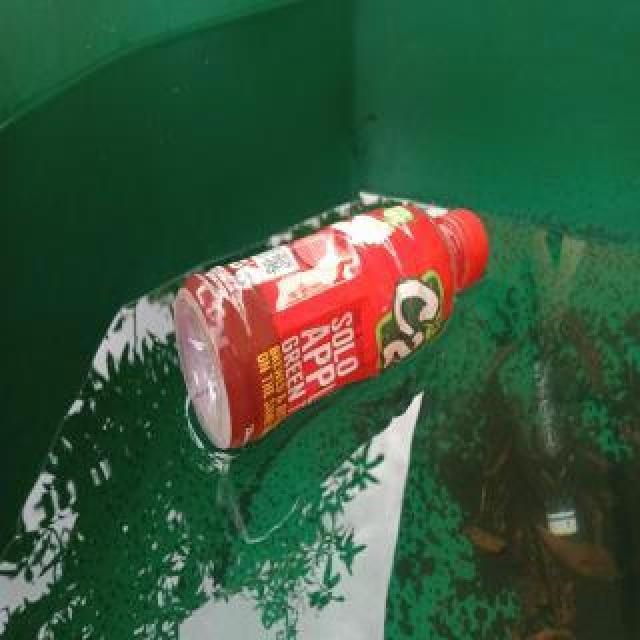bottle: (170, 197, 492, 453)
